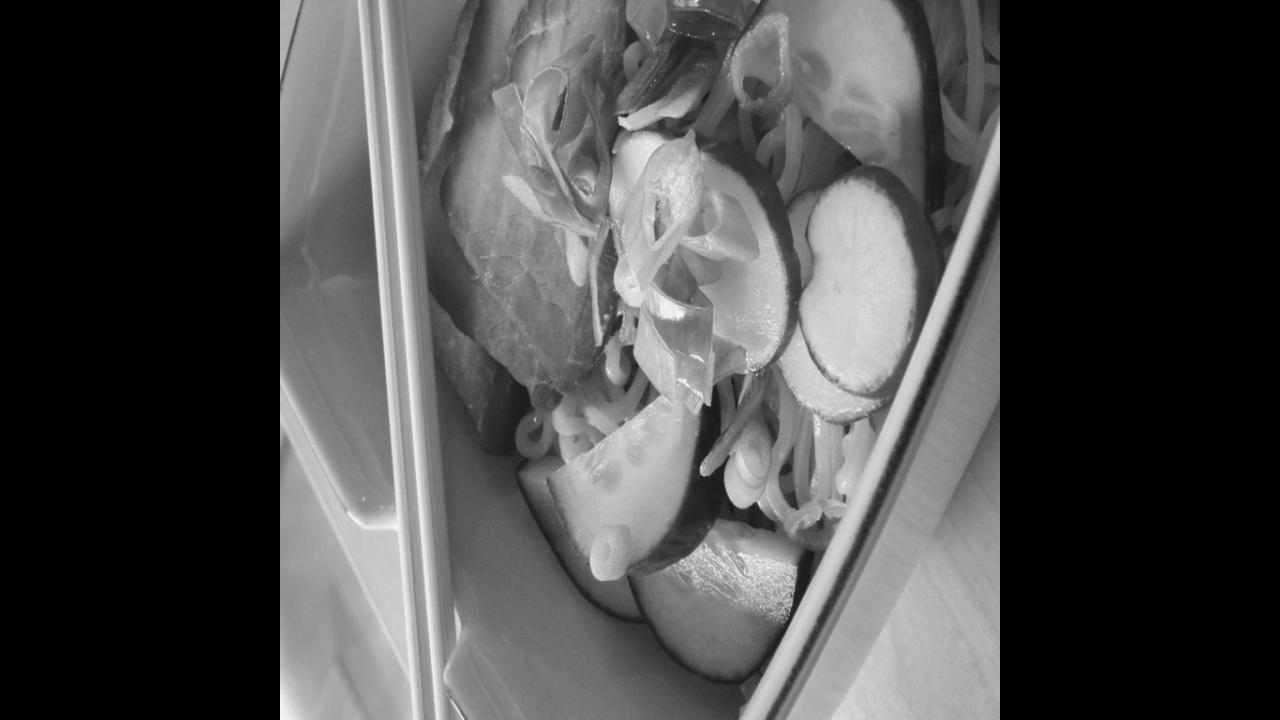chopstick: (336, 0, 492, 720)
